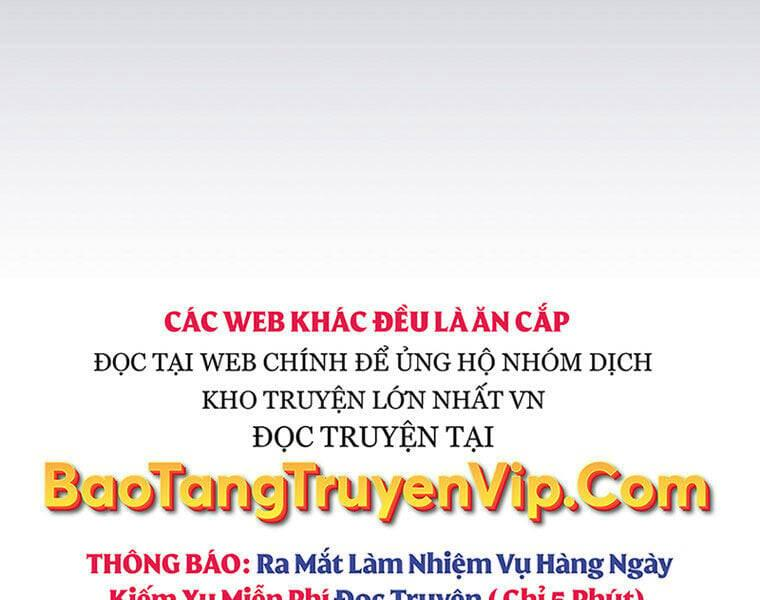quangcao: (44, 303, 714, 600)
